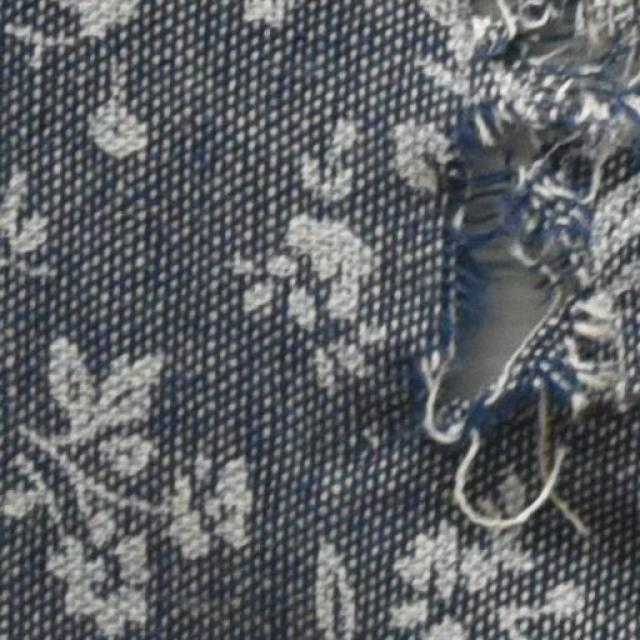Hole: (448, 128, 551, 408), (535, 29, 630, 82)
Snag: (466, 0, 639, 129), (439, 122, 503, 359)
